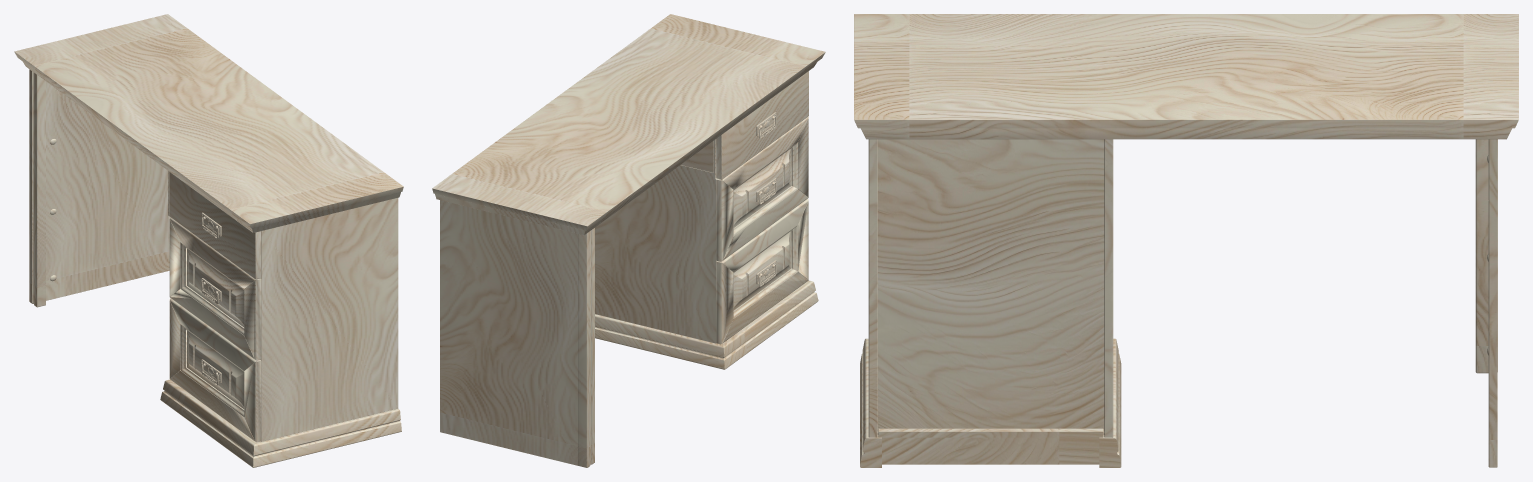
Rendered from NFG-I0008.glb.
3 views of the same model, side by side, from view 1: azimuth 30°, elevation 25°; view 2: azimuth 150°, elevation 25°; view 3: azimuth 270°, elevation 25° (orthographic). The views are drawn at different scales.
Parts seen in each view (by area): view 1: Olivia2020; view 2: Olivia2020; view 3: Olivia2020.
Boxes of the visible parts, x1,y1,x2,y2 form: Olivia2020: [14, 14, 403, 467]; Olivia2020: [432, 14, 825, 467]; Olivia2020: [854, 14, 1518, 467].
Size of the model in its own units: 0.7531 by 1.16 by 2.
1 material, 1 textured.
